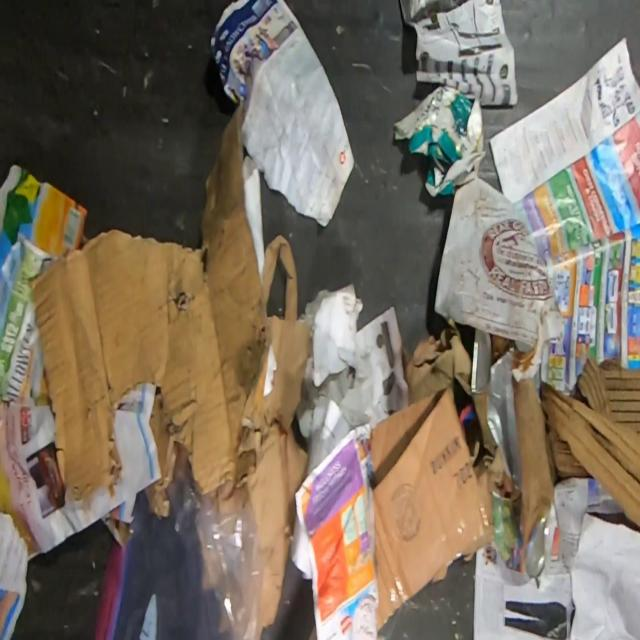cardboard: (28, 102, 274, 520), (368, 384, 506, 633), (0, 163, 89, 404), (538, 355, 640, 529), (392, 83, 486, 198), (511, 375, 559, 547)
soft_plastic: (92, 442, 264, 640), (486, 347, 522, 492), (492, 489, 550, 578)
